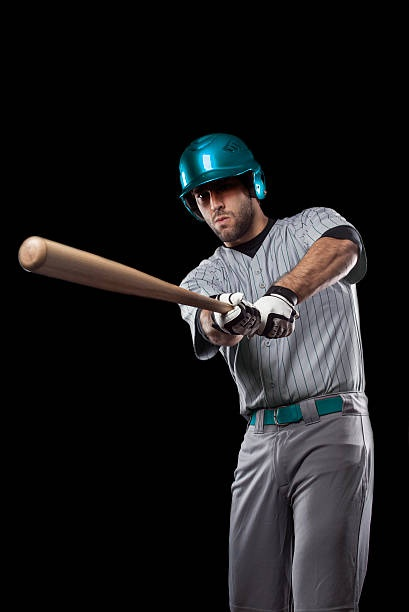bita: (26, 237, 268, 340)
